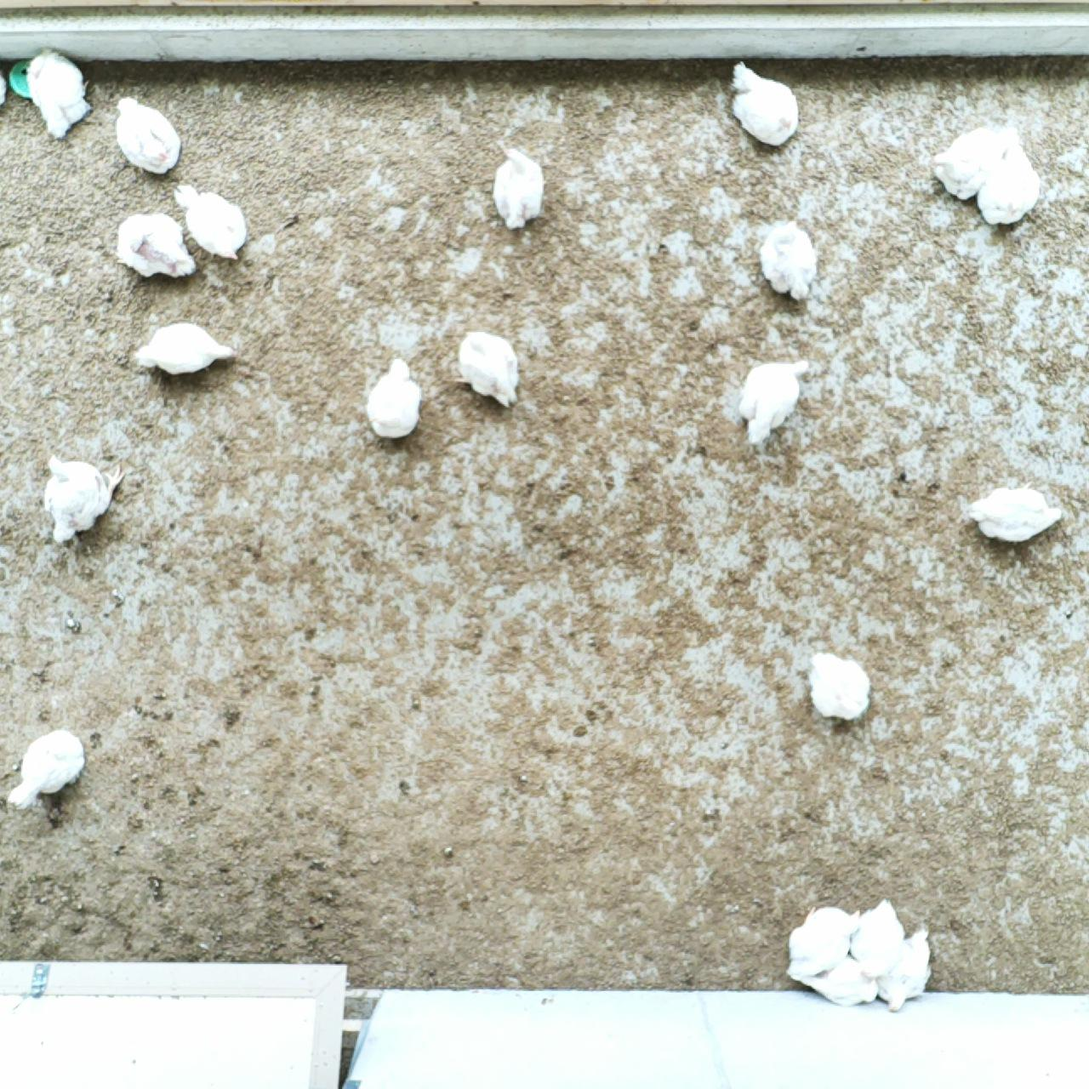chicken: (39, 452, 127, 545), (4, 727, 87, 814), (965, 478, 1068, 547), (736, 356, 811, 447), (728, 58, 802, 150), (25, 44, 95, 140), (924, 125, 1010, 202), (783, 901, 862, 983), (133, 318, 239, 378), (171, 182, 250, 262), (112, 92, 184, 176), (975, 142, 1044, 229), (115, 210, 198, 281), (451, 328, 521, 410), (362, 354, 427, 442), (876, 925, 938, 1015), (758, 217, 822, 302), (805, 648, 872, 725), (490, 147, 548, 233), (852, 897, 907, 984), (800, 954, 881, 1008)
